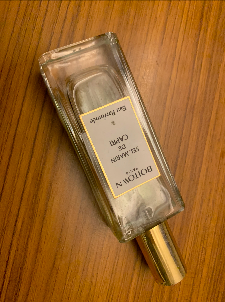object_name: (68, 36, 197, 291)
